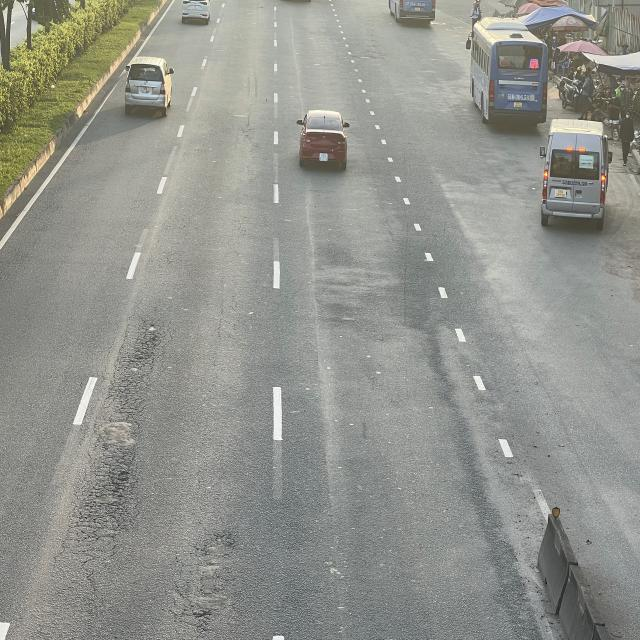car: (298, 111, 352, 170), (123, 56, 174, 113), (180, 0, 210, 23)
coach: (470, 18, 550, 124)
van: (540, 122, 610, 230)
